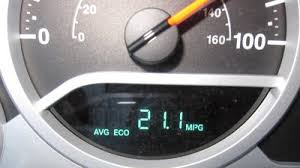Digital_Meter: (72, 103, 208, 142)
